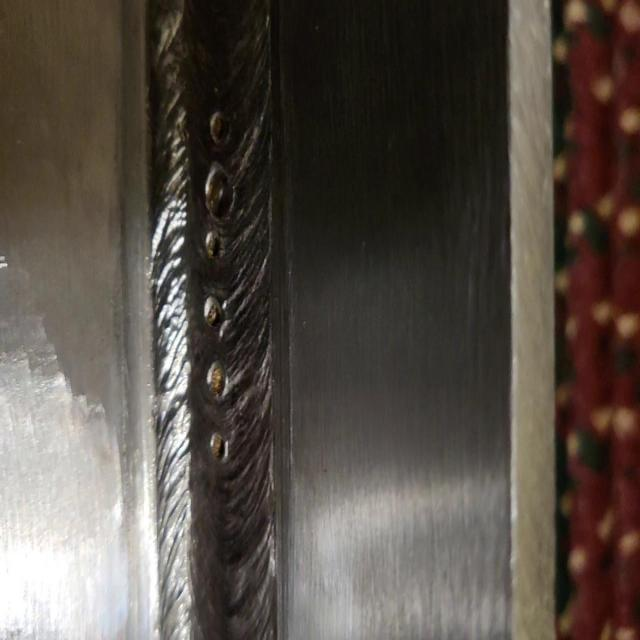Welding Line: (148, 2, 270, 640)
Workpiece: (1, 0, 554, 640)
porosity: (205, 107, 233, 466)
